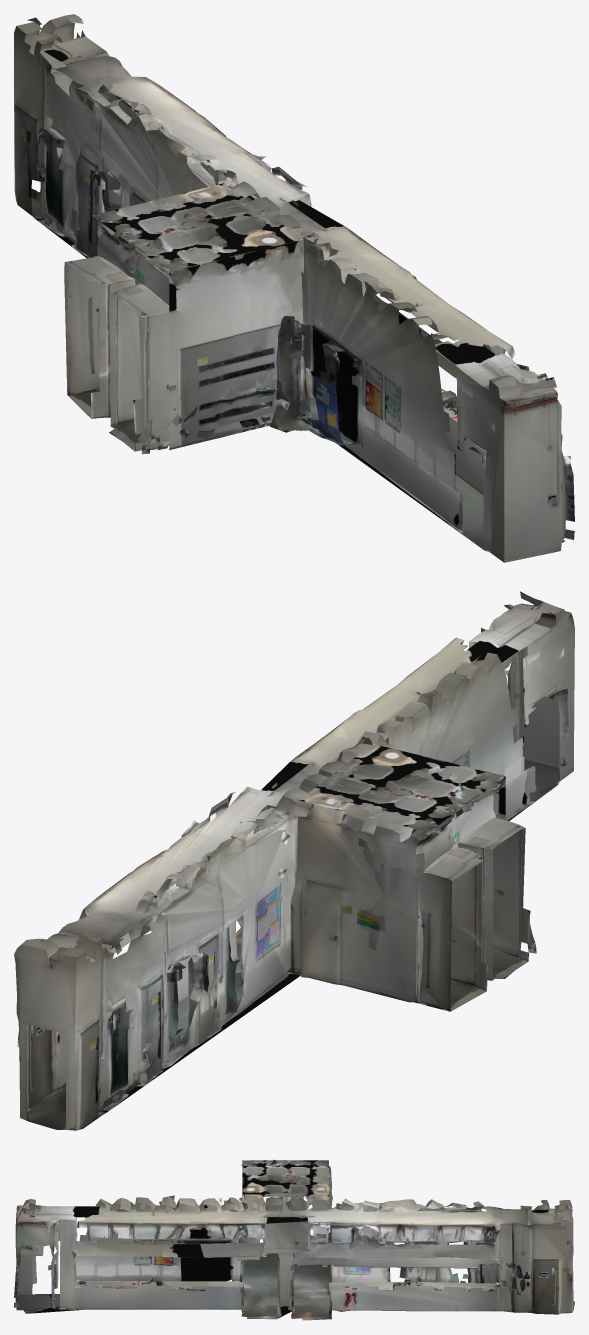
File: Before_bridge-IM.fbx
The picture shows the model from 3 angles, top to bottom: view 1: azimuth 30°, elevation 25°; view 2: azimuth 150°, elevation 25°; view 3: azimuth 270°, elevation 25°; orthographic projection. The views are drawn at different scales.
Visible parts, largest first — view 1: Before_bridge-IM; view 2: Before_bridge-IM; view 3: Before_bridge-IM.
Part boxes in pixels (x1,y1,x2,y2): Before_bridge-IM: (14,14,574,562); Before_bridge-IM: (14,591,574,1130); Before_bridge-IM: (14,1159,574,1320).
Size of the model in its own units: 567 by 393 by 1892.
1 material, 1 textured.
